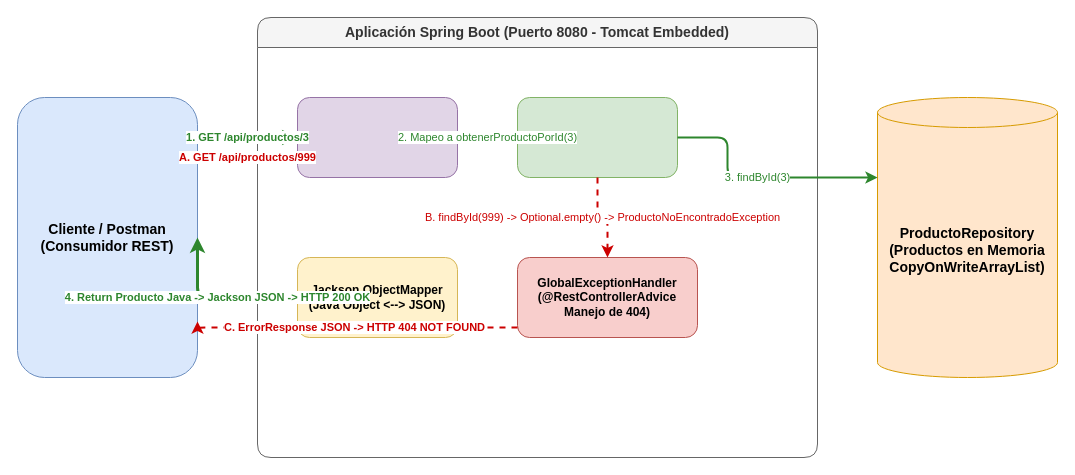
Image size: 1075x475. Some labels were removed from this diagram. Each missing label, with the centre of its shape:
"DispatcherServlet (Front Controller)" belongs at (x=377, y=137).
"ProductoController (@RestController /api/productos)" belongs at (x=597, y=137).
